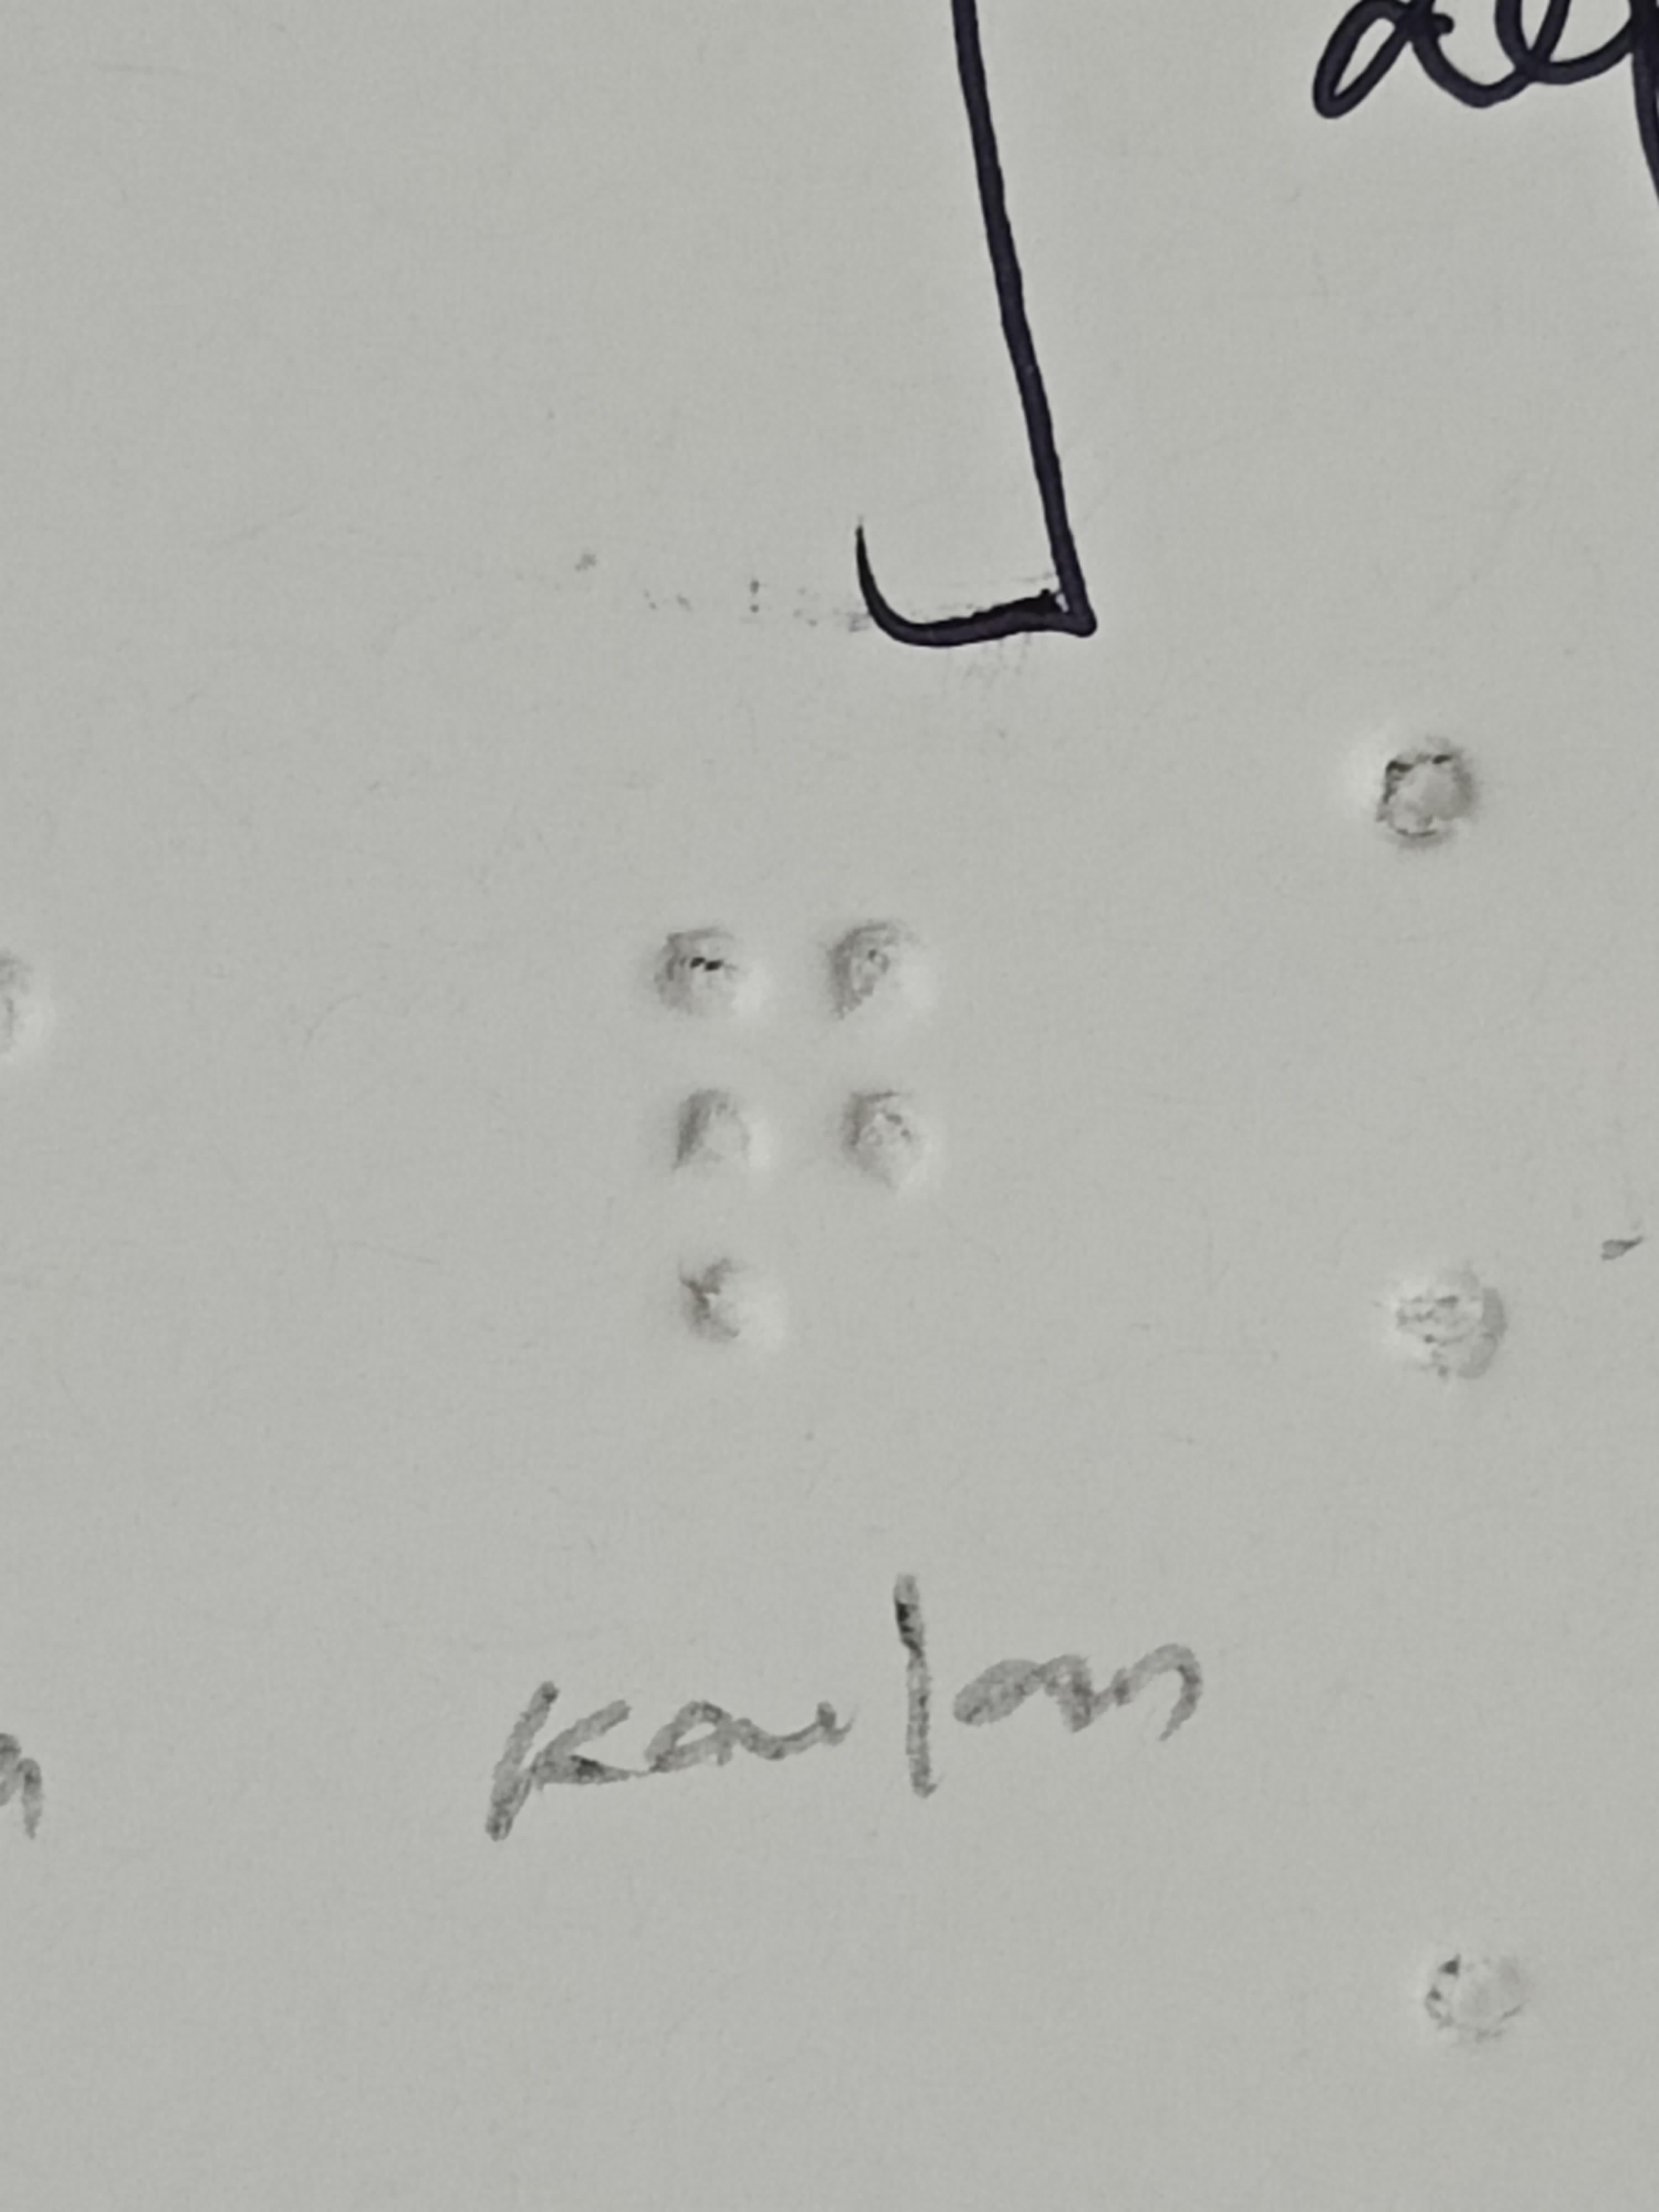one_cell_alphabet_kailan: (653, 925, 943, 1374)
